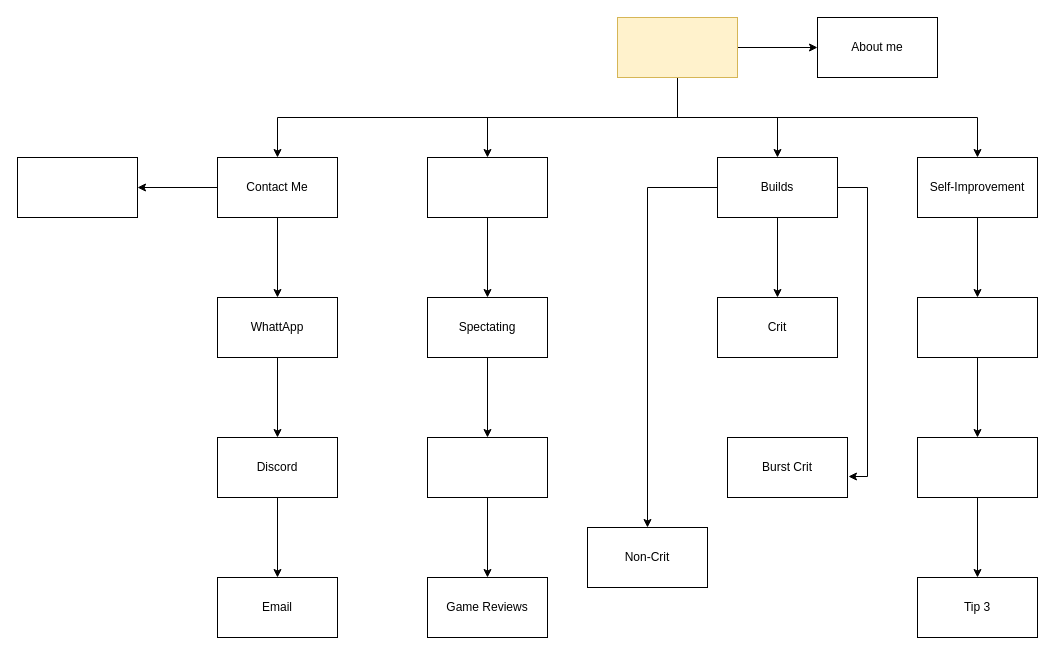
This 1055x655 diagram has some shape labels left out. Each missing label, with the centre of its shape:
1 on 1 Coaching: the point at 487,467
Direct Email through site with AJAX: the point at 77,187
Home: the point at 677,47
Plans: the point at 487,187
Tip 1: the point at 977,327
Tip 2: the point at 977,467
